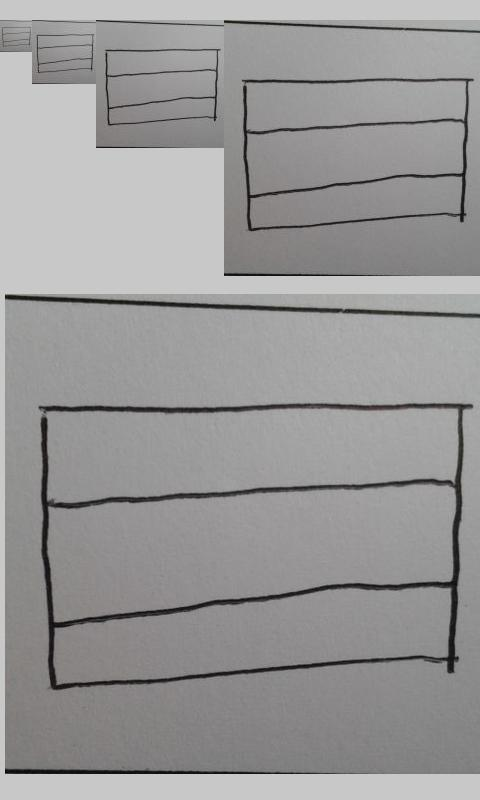list_view: (38, 398, 464, 691), (241, 77, 470, 232), (104, 48, 220, 127), (36, 33, 95, 74), (1, 26, 32, 47)
